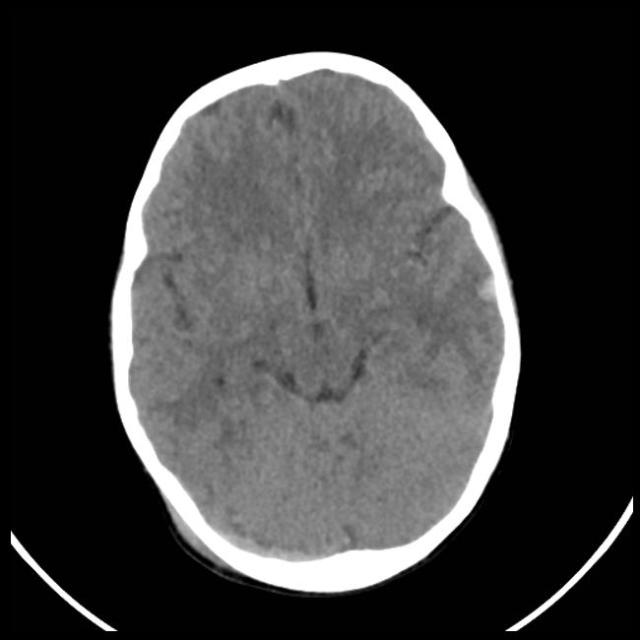lesion: (110, 56, 522, 581)
